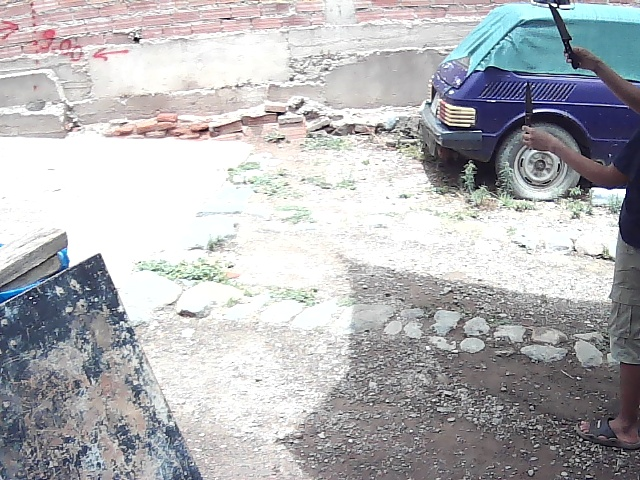cuchillo: (546, 2, 584, 71)
